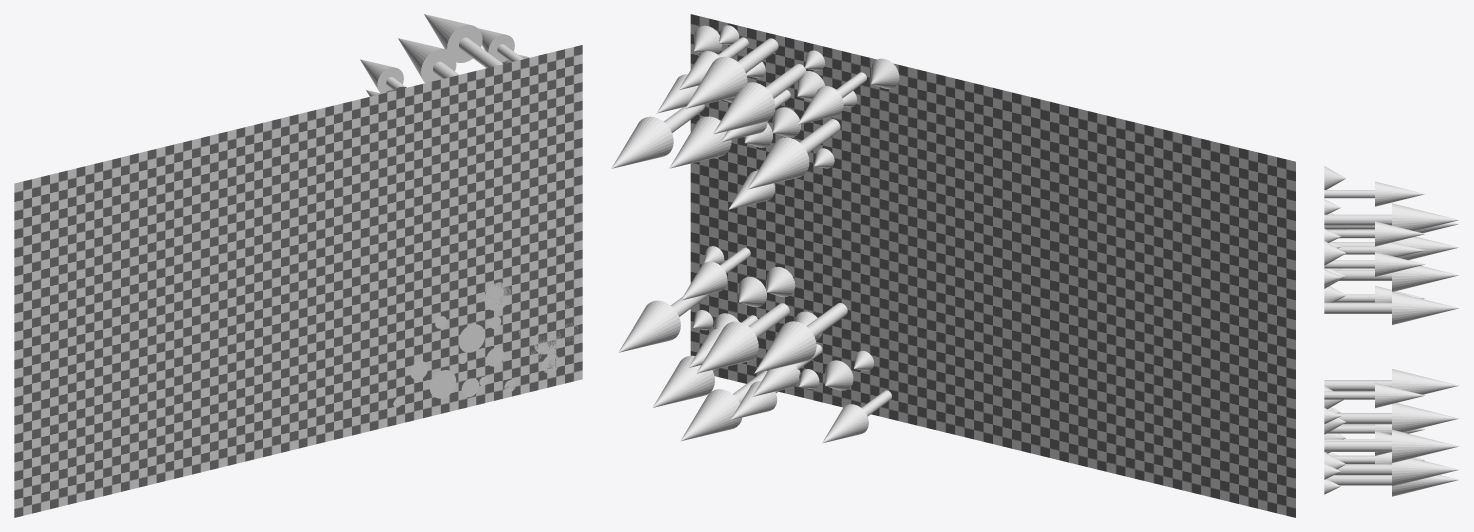
Rendered from forest1.dae.
The picture shows the model from 3 angles, left to right: view 1: azimuth 30°, elevation 25°; view 2: azimuth 150°, elevation 25°; view 3: azimuth 270°, elevation 25°; orthographic projection. The views are drawn at different scales.
Visible parts, largest first — view 1: Plane.001, Cone.023, Cone.014, Cone.034, Cone.021; view 2: Plane.001, Cone.013, Cone.010, Cone.006, Cone.014, Cone.023, Cone.033, Cone.031, Cone.024, Cone.037, Cone.030, Cone.021 (+6 smaller); view 3: Cone.033, Cone.031, Cone.023, Cone.006, Cone.030, Cone.010, Cone.037, Cone.024, Cone.027, Cone.021, Cone.036, Cone.034 (+12 smaller).
Part boxes in pixels (x1,y1,x2,y2): Plane.001: (14, 45, 582, 517); Cone.023: (424, 14, 503, 68); Cone.014: (398, 38, 459, 82); Cone.034: (478, 28, 523, 62); Cone.021: (360, 59, 406, 93); Plane.001: (690, 14, 1295, 517); Cone.013: (747, 119, 840, 189); Cone.010: (754, 303, 847, 373); Cone.006: (696, 303, 789, 373); Cone.014: (713, 64, 805, 134); Cone.023: (685, 38, 778, 108); Cone.033: (611, 104, 704, 168); Cone.031: (618, 293, 710, 352); Cone.024: (680, 370, 767, 441); Cone.037: (669, 116, 731, 168); Cone.030: (652, 355, 717, 407); Cone.021: (797, 72, 866, 124); Cone.033: (1324, 291, 1458, 324); Cone.031: (1324, 429, 1459, 463); Cone.023: (1324, 203, 1459, 231); Cone.006: (1335, 403, 1458, 432); Cone.030: (1334, 458, 1459, 486); Cone.010: (1324, 369, 1458, 394); Cone.037: (1335, 266, 1458, 291); Cone.024: (1327, 475, 1458, 496); Cone.027: (1324, 383, 1424, 408); Cone.021: (1324, 181, 1425, 206); Cone.036: (1324, 252, 1425, 276); Cone.034: (1328, 221, 1424, 246).
Size of the model in its own units: 65.16 by 16 by 37.7.
